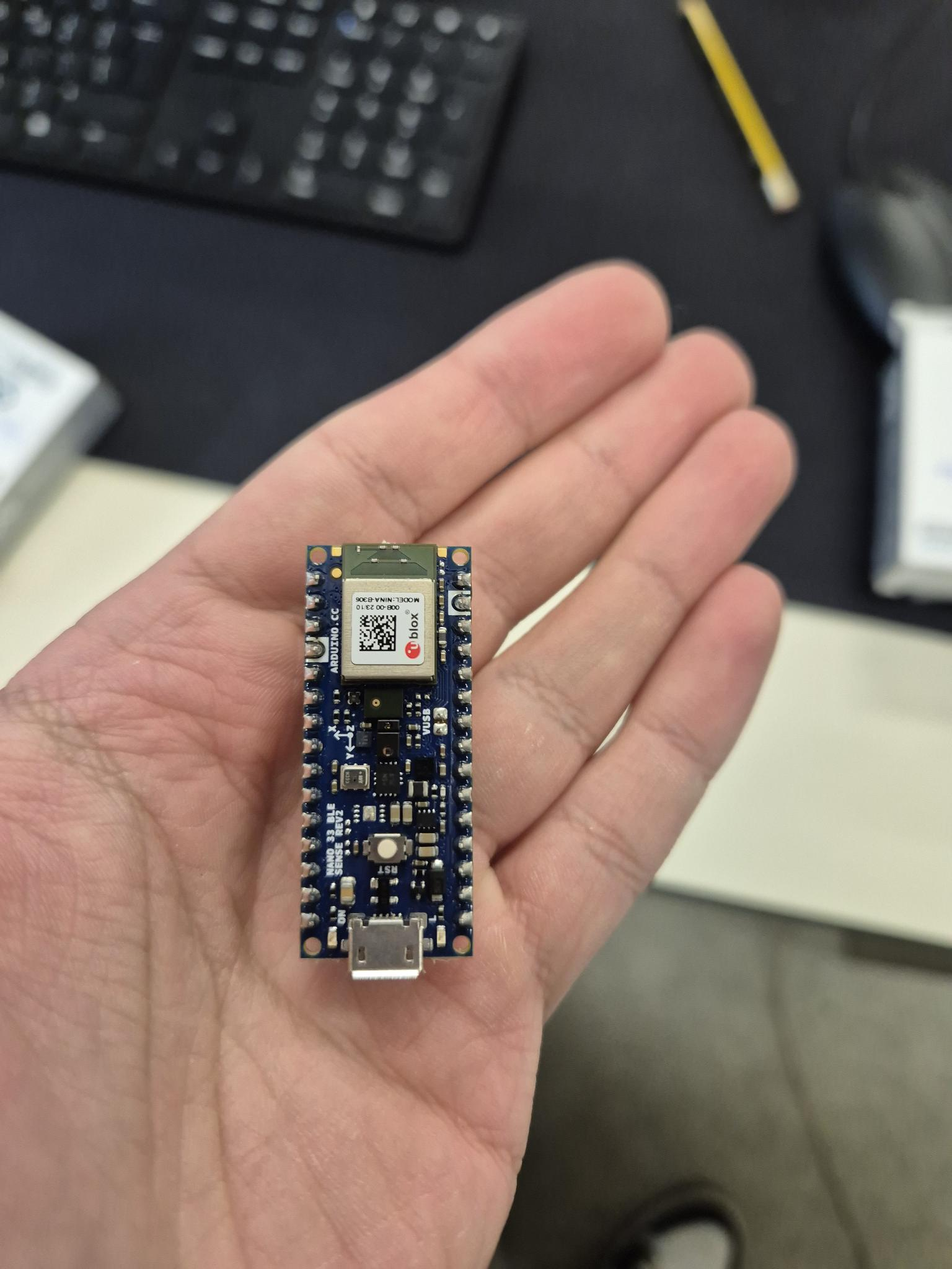arduino-nano-ble-sense: (301, 543, 473, 979)
